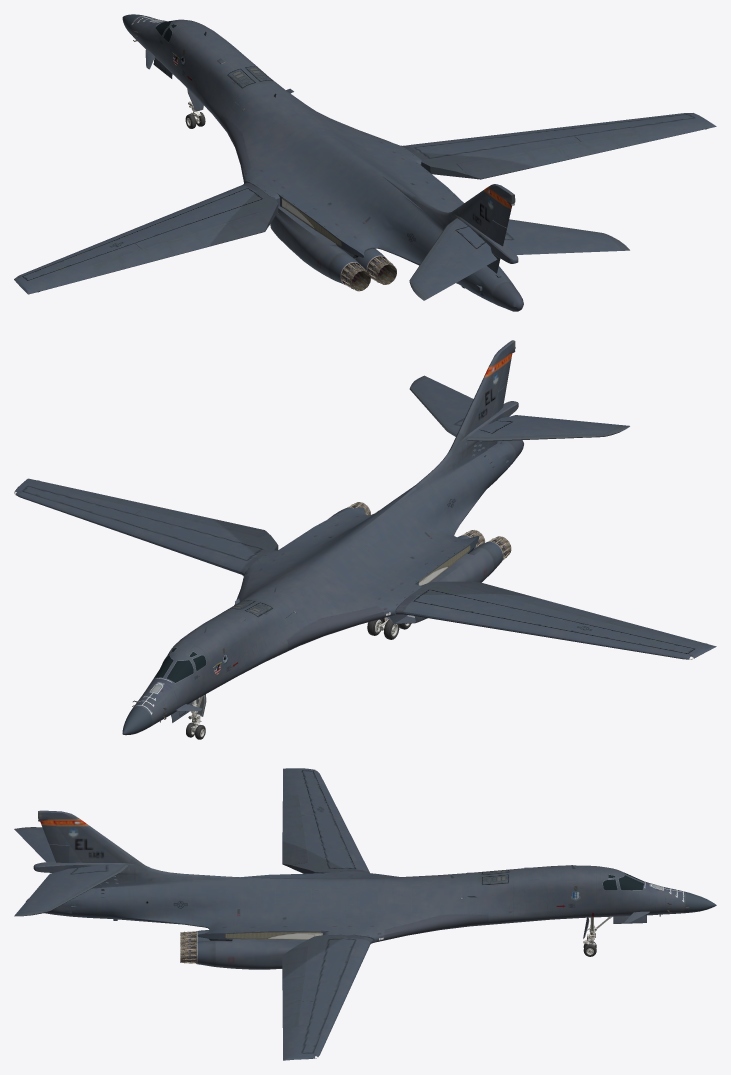
3 renders of one model, top to bottom at view 1: azimuth 30°, elevation 25°; view 2: azimuth 150°, elevation 25°; view 3: azimuth 270°, elevation 25°, orthographic. The views are drawn at different scales.
Visible parts, largest first — view 1: Object_23, Object_22, Object_24, Object_36, Object_37, Object_27; view 2: Object_23, Object_22, Object_24, Object_36, Object_37, Object_13; view 3: Object_23, Object_22, Object_36, Object_37, Object_24, Object_27, Object_13.
Boxes of the visible parts, x1,y1,x2,y2 form: Object_23: (244,130,523,311); Object_22: (122,14,387,181); Object_24: (14,182,497,300); Object_36: (38,113,716,292); Object_37: (270,176,518,284); Object_27: (340,255,396,291); Object_23: (244,440,523,615); Object_22: (122,562,392,735); Object_24: (396,415,716,659); Object_36: (14,375,473,575); Object_37: (328,340,518,624); Object_13: (155,648,206,682); Object_23: (26,871,377,943); Object_22: (377,865,716,941); Object_36: (14,864,373,1060); Object_37: (33,810,306,969); Object_24: (14,768,369,873); Object_27: (180,931,197,964); Object_13: (603,867,643,890).
Bounding box in the file's own units: 45.01 × 10.64 × 45.79.
29 materials, 25 textured.
